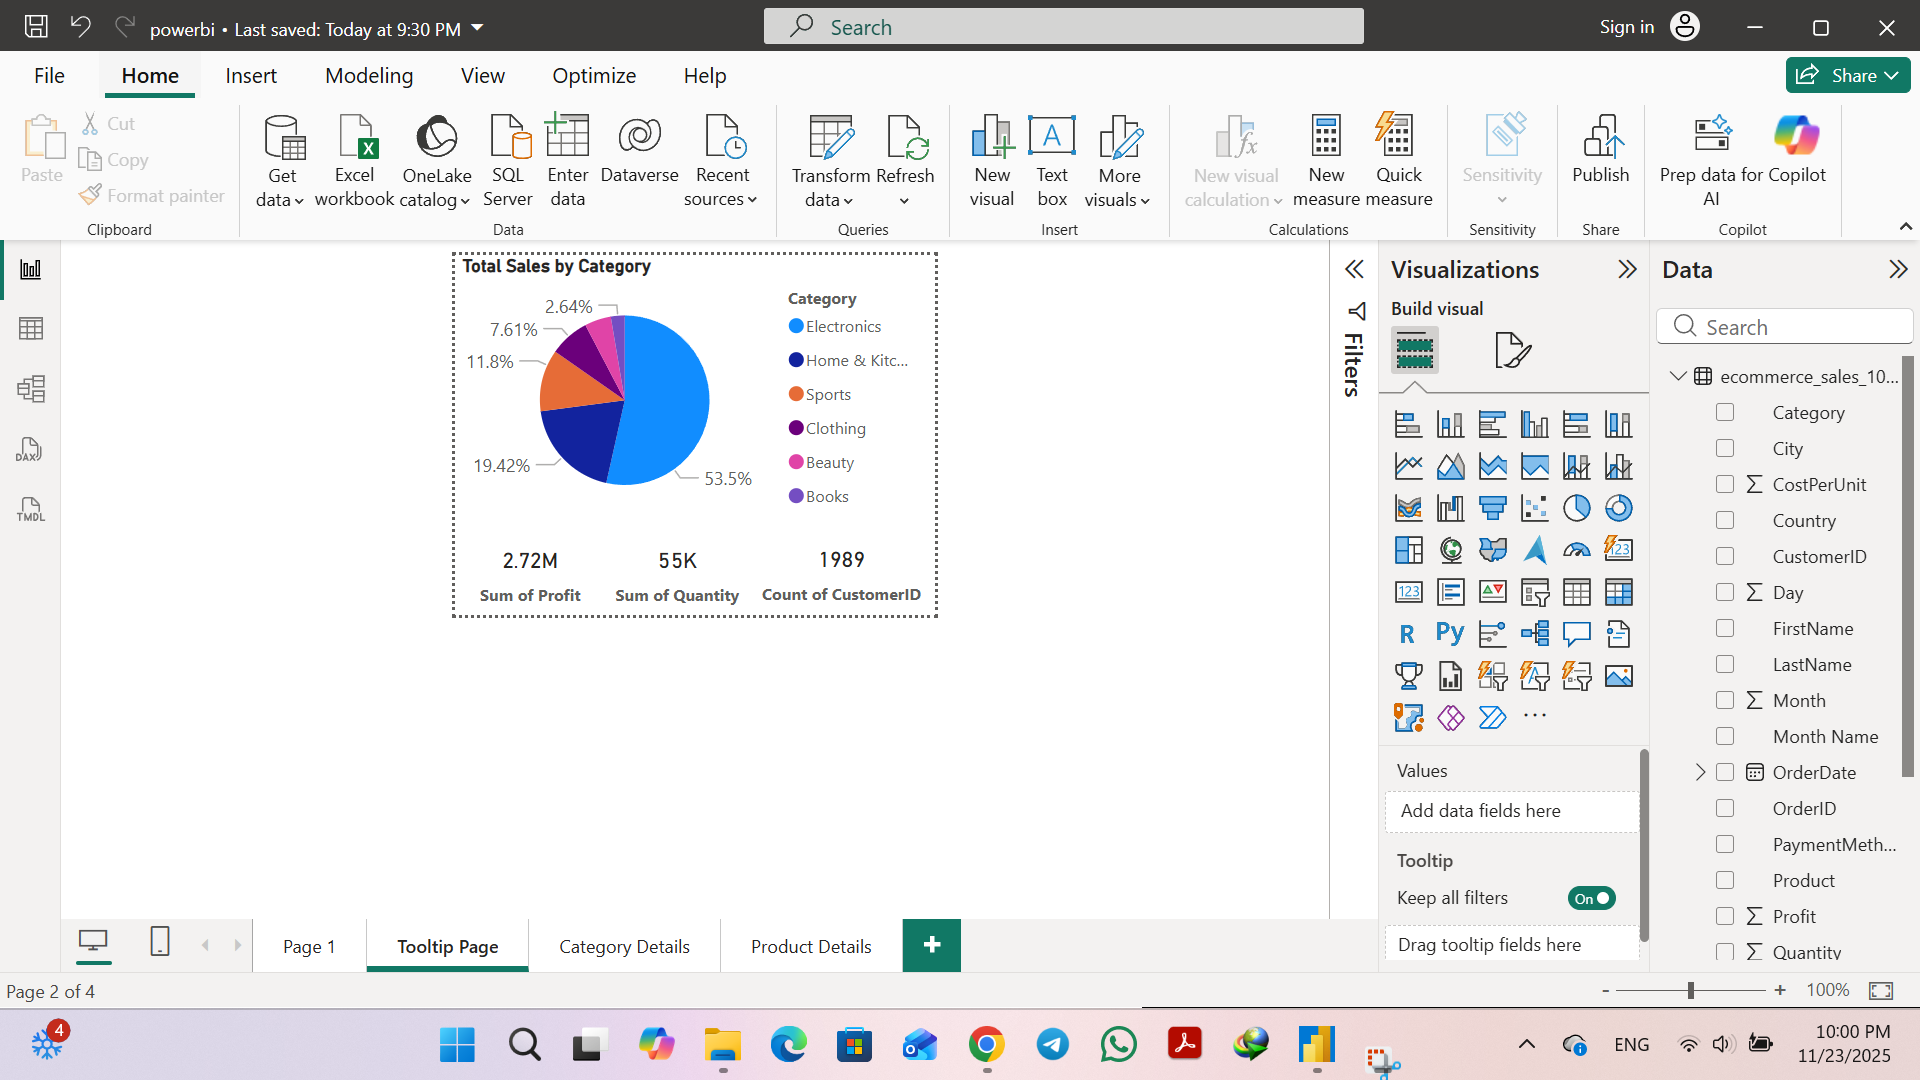

This screenshot's page, from the dashboard's own definition file:
{"tool":"powerbi","page":{"name":"Tooltip Page","canvas":[320,240],"ordinal":1},"visuals":[{"type":"card","fields":{"Values":["Sum(ecommerce_sales_10000rows.Profit)"]},"box":[0,182,101,58],"z":0},{"type":"card","fields":{"Values":["Sum(ecommerce_sales_10000rows.Quantity)"]},"box":[101,182,95,58],"z":1000},{"type":"card","fields":{"Values":["Count(ecommerce_sales_10000rows.CustomerID)"]},"box":[196,181,124,59],"z":2000},{"type":"pieChart","title":"Total Sales by Category","fields":{"Y":["Sum(ecommerce_sales_10000rows.Total Sales)"],"Category":["ecommerce_sales_10000rows.Category"]},"box":[0,0,320,179],"z":3000}]}

Visuals, with their boxes on the page's 320x240 design canvas (x1, y1, x2, y2). These are canvas units, not pixel positions in the 1920x1080 screenshot, which may show the page scaled, cropped or inside an application window:
card - Sum(ecommerce_sales_10000rows.Profit): l=0, t=182, r=101, b=240
card - Sum(ecommerce_sales_10000rows.Quantity): l=101, t=182, r=196, b=240
card - Count(ecommerce_sales_10000rows.CustomerID): l=196, t=181, r=320, b=240
"Total Sales by Category" pieChart: l=0, t=0, r=320, b=179
